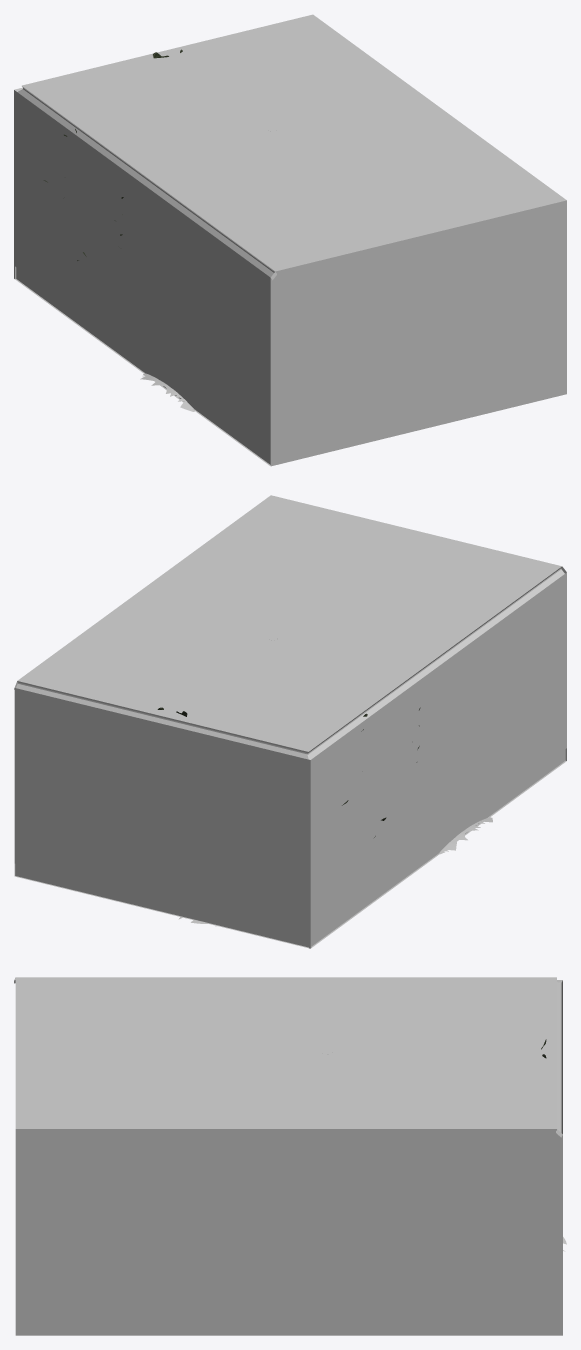
3 views of the same model, one above another, from view 1: azimuth 30°, elevation 25°; view 2: azimuth 150°, elevation 25°; view 3: azimuth 270°, elevation 25° (orthographic). The views are drawn at different scales.
Visible parts, largest first — view 1: room_Mesh.016, room.001_Mesh.017, room.002_Mesh.018; view 2: room_Mesh.016, room.001_Mesh.017, room.002_Mesh.018; view 3: room_Mesh.016, room.002_Mesh.018.
Boxes of the visible parts, box(x1,y1,x2,y2) form: room_Mesh.016: box(14, 14, 566, 465); room.001_Mesh.017: box(14, 266, 271, 466); room.002_Mesh.018: box(14, 86, 276, 465); room_Mesh.016: box(14, 495, 566, 935); room.001_Mesh.017: box(14, 748, 566, 948); room.002_Mesh.018: box(14, 567, 566, 948); room_Mesh.016: box(15, 977, 562, 1335); room.002_Mesh.018: box(14, 977, 562, 1137).
Size of the model in its own units: 4.16 by 2.64 by 6.06.
